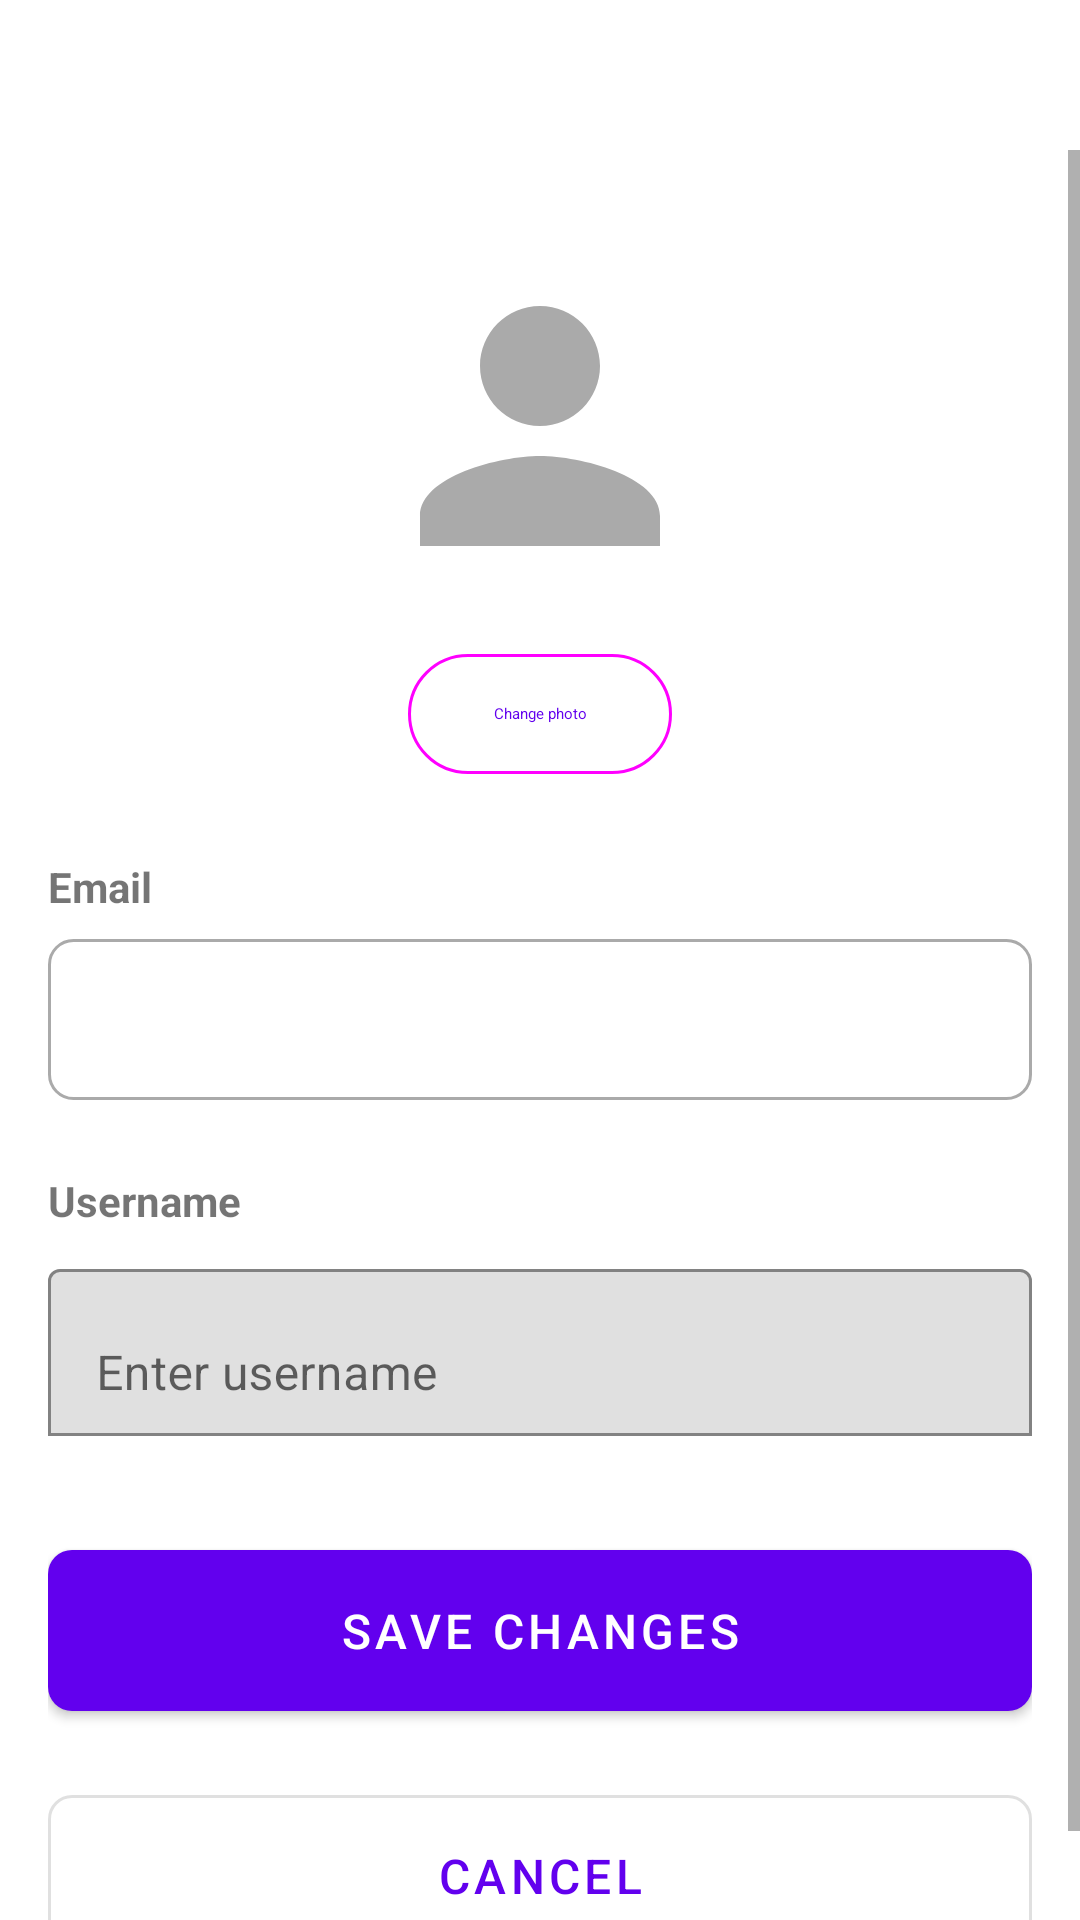

Screen size 1080px×1920px. Icon name, then its box in pixels as (x1,y1,x2,y2):
profile: (420,306,660,546)
